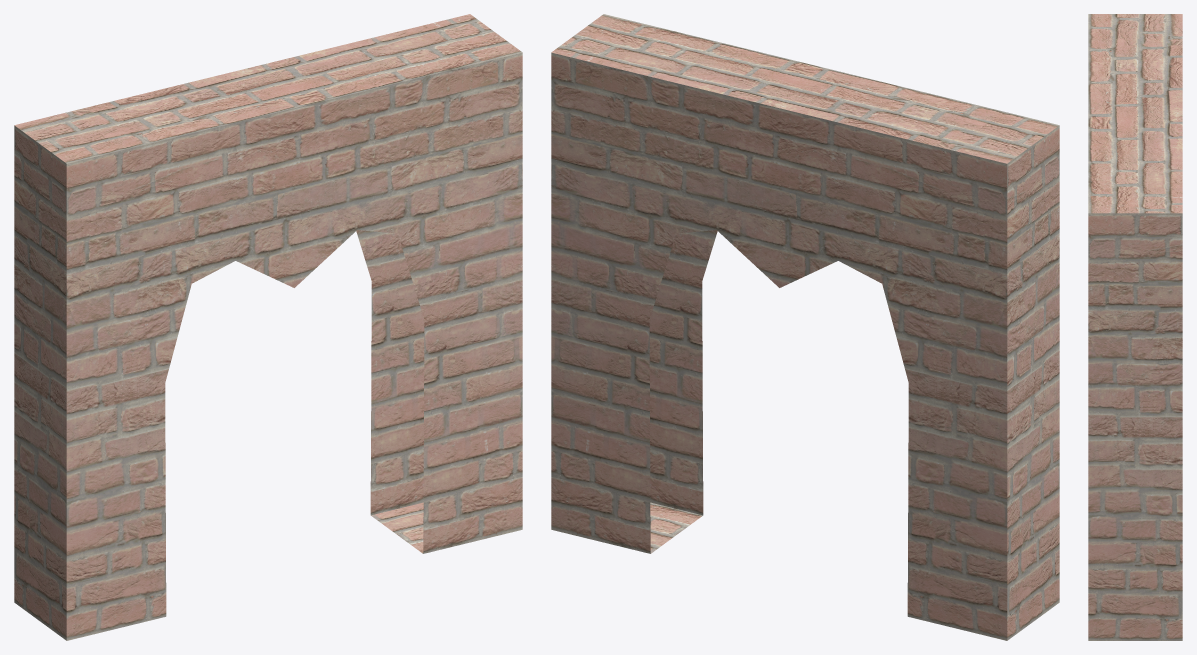
File: ThickWall_Hole.fbx
3 renders of one model, left to right at view 1: azimuth 30°, elevation 25°; view 2: azimuth 150°, elevation 25°; view 3: azimuth 270°, elevation 25°, orthographic. The views are drawn at different scales.
Visible parts, largest first — view 1: ThickWall_Hole; view 2: ThickWall_Hole; view 3: ThickWall_Hole.
Boxes of the visible parts, <box> form: ThickWall_Hole: <box>14,14,522,640</box>; ThickWall_Hole: <box>551,14,1059,640</box>; ThickWall_Hole: <box>1088,14,1182,640</box>.
Size of the model in its own units: 300 by 300 by 60.
1 material, 1 textured.
